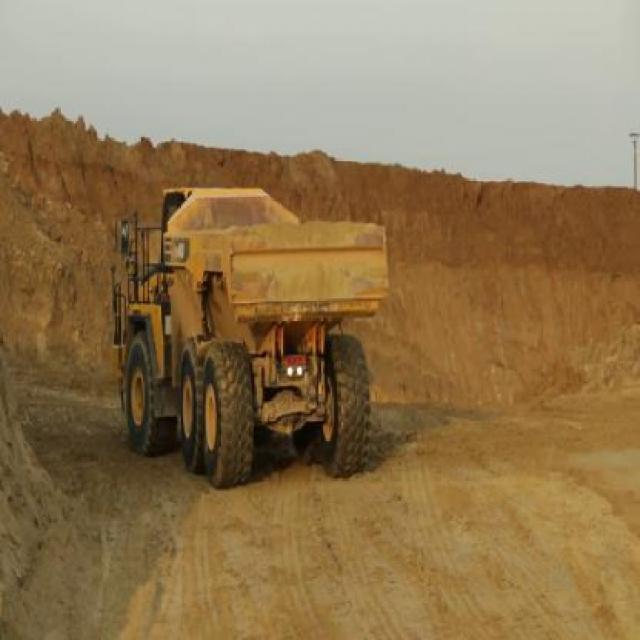Dump Truck: (110, 186, 388, 489)
